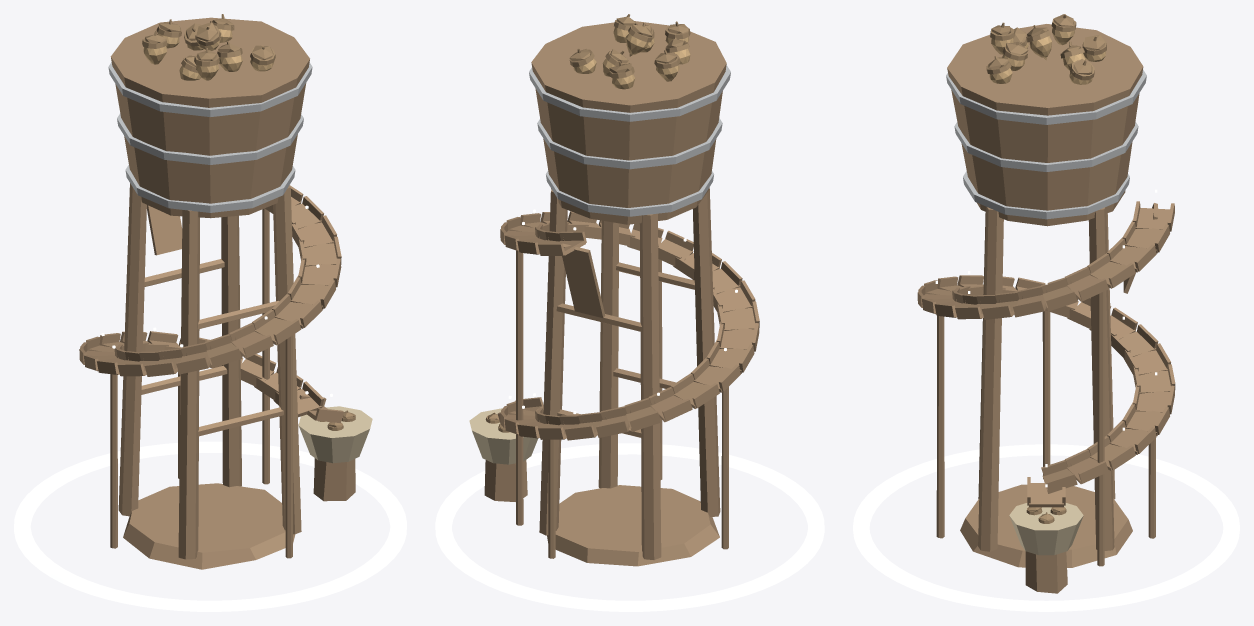
Rendered from acorn_dispenser_ring.fbx.
3 views of the same model, side by side, from view 1: azimuth 30°, elevation 25°; view 2: azimuth 150°, elevation 25°; view 3: azimuth 270°, elevation 25° (orthographic).
Visible parts, largest first — view 1: AcornDispenser_Wood, AcornDispenser_Logs, AcornDispenser_Glow, AcornDispenser_Bands, AcornDispenser_Caps, AcornDispenser_Basket, AcornDispenser_Nuts; view 2: AcornDispenser_Wood, AcornDispenser_Logs, AcornDispenser_Glow, AcornDispenser_Bands, AcornDispenser_Caps, AcornDispenser_Basket, AcornDispenser_Nuts; view 3: AcornDispenser_Wood, AcornDispenser_Logs, AcornDispenser_Glow, AcornDispenser_Bands, AcornDispenser_Caps, AcornDispenser_Basket, AcornDispenser_Nuts.
Part boxes in pixels (x1,y1,x2,y2): AcornDispenser_Wood: (79, 17, 343, 423); AcornDispenser_Logs: (110, 183, 355, 569); AcornDispenser_Glow: (14, 441, 406, 611); AcornDispenser_Bands: (108, 62, 312, 212); AcornDispenser_Caps: (142, 14, 355, 430); AcornDispenser_Basket: (298, 406, 372, 463); AcornDispenser_Nuts: (143, 29, 322, 421); AcornDispenser_Wood: (497, 21, 759, 440); AcornDispenser_Logs: (484, 188, 728, 566); AcornDispenser_Glow: (435, 443, 824, 611); AcornDispenser_Bands: (529, 65, 730, 216); AcornDispenser_Caps: (485, 14, 690, 432); AcornDispenser_Basket: (469, 408, 538, 464); AcornDispenser_Nuts: (496, 27, 690, 423); AcornDispenser_Wood: (917, 24, 1175, 507); AcornDispenser_Logs: (936, 207, 1155, 593); AcornDispenser_Glow: (853, 444, 1239, 611); AcornDispenser_Bands: (946, 69, 1146, 219); AcornDispenser_Caps: (986, 14, 1106, 523); AcornDispenser_Basket: (1009, 503, 1083, 555); AcornDispenser_Nuts: (989, 27, 1105, 515).
Size of the model in its own units: 16.6 by 23.87 by 16.6.
